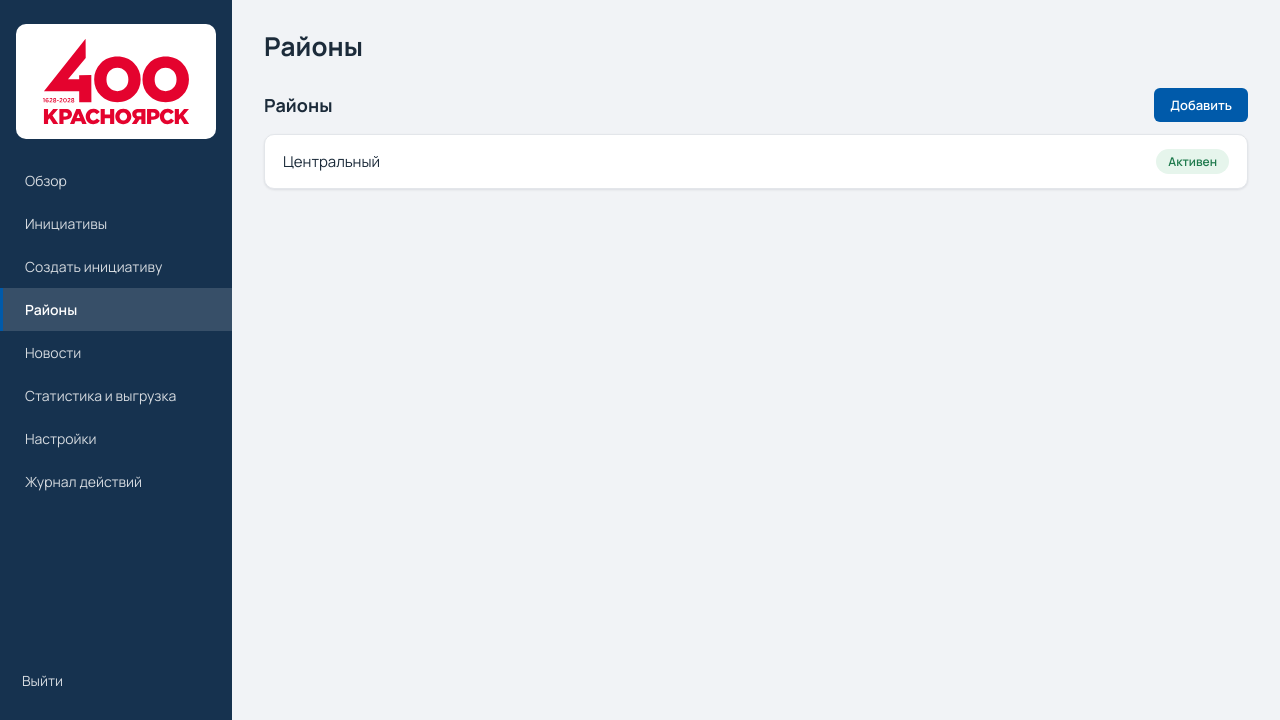
Test: admin taxonomy screen › opens the edit dialog for an existing district and updates it via PATCH
Click the button "Центральный Активен".
click(332, 162)  # box [265,135,1247,188]
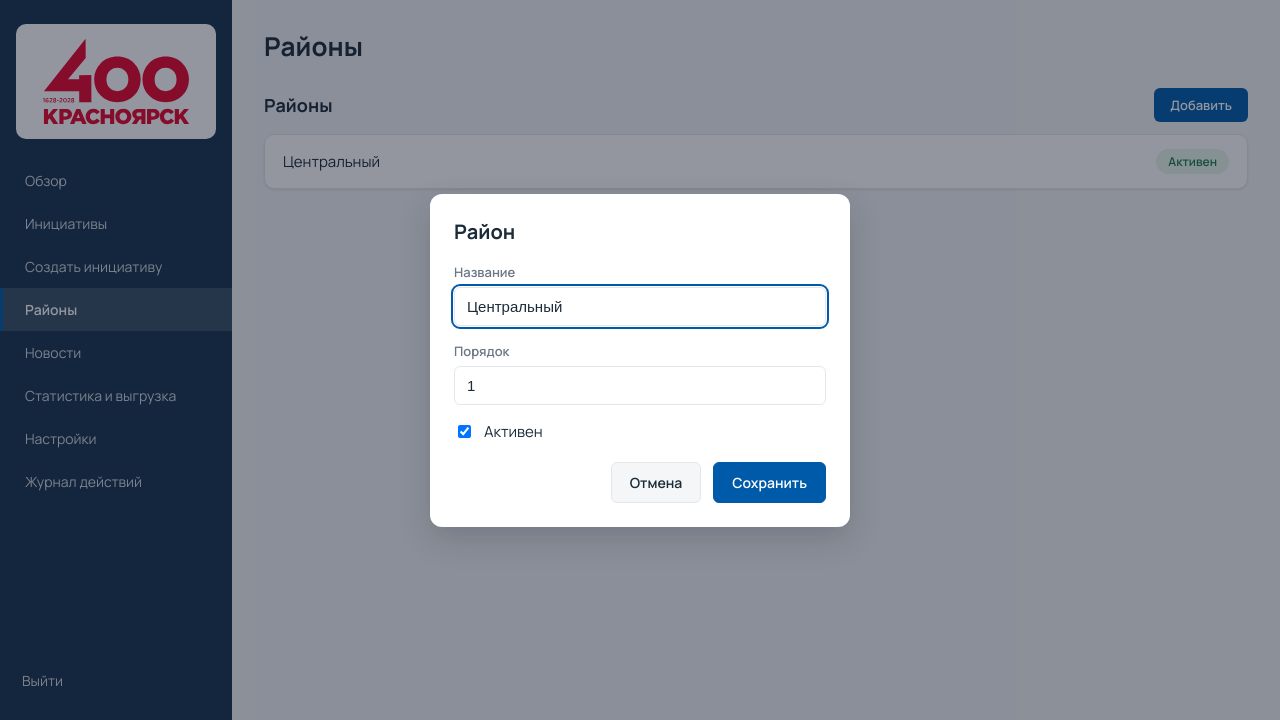
Check: the heading "Район" is shown, box [454,218,515,244]
Replace the text in the field labelled "Название" with "Центральный обновлённый" at (640, 306), box [454,286,826,326]
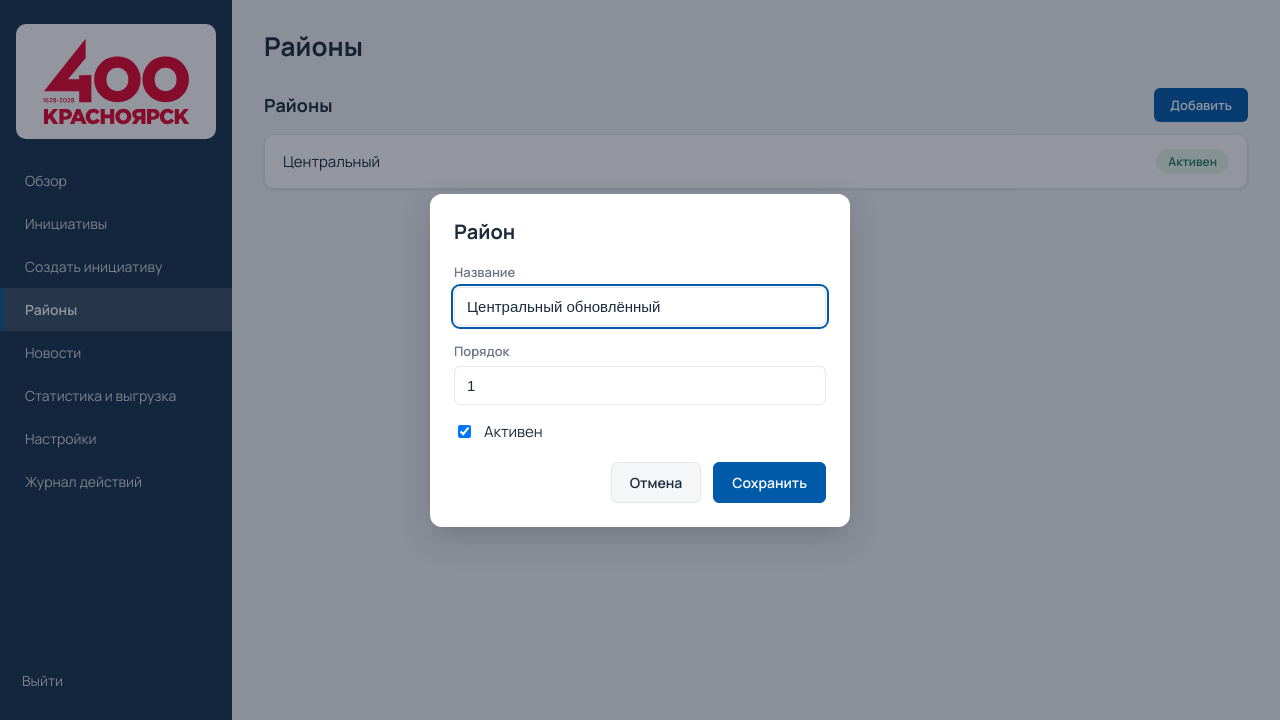
Click the button "Сохранить".
click(770, 482)  # box [713,462,826,502]
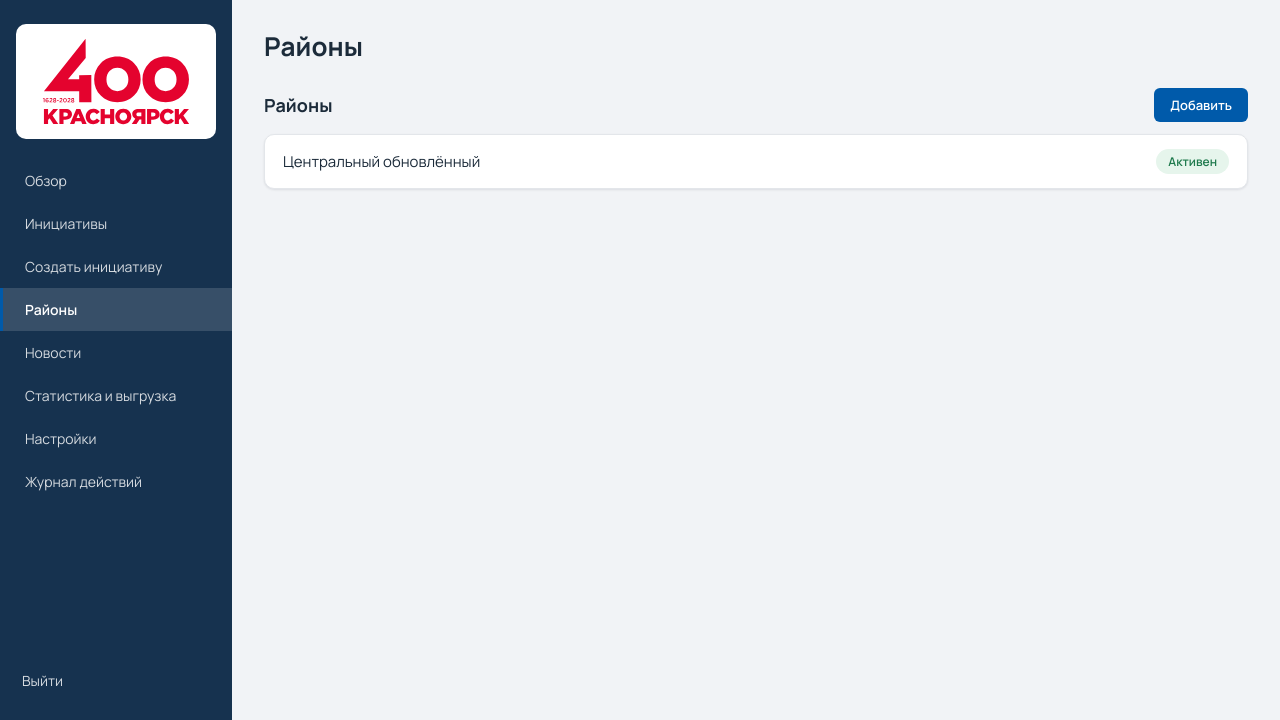
Check: the text "Центральный обновлённый" is shown, box [283,151,480,172]
